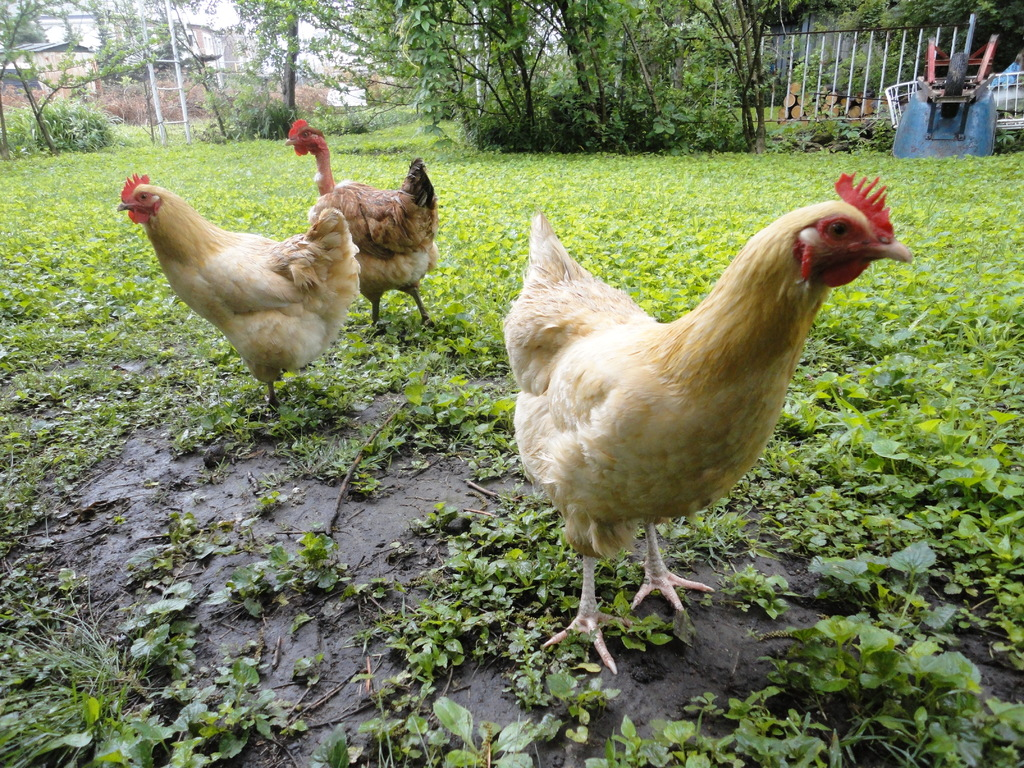chicken: (492, 149, 918, 676), (88, 170, 357, 430), (271, 116, 453, 344)
